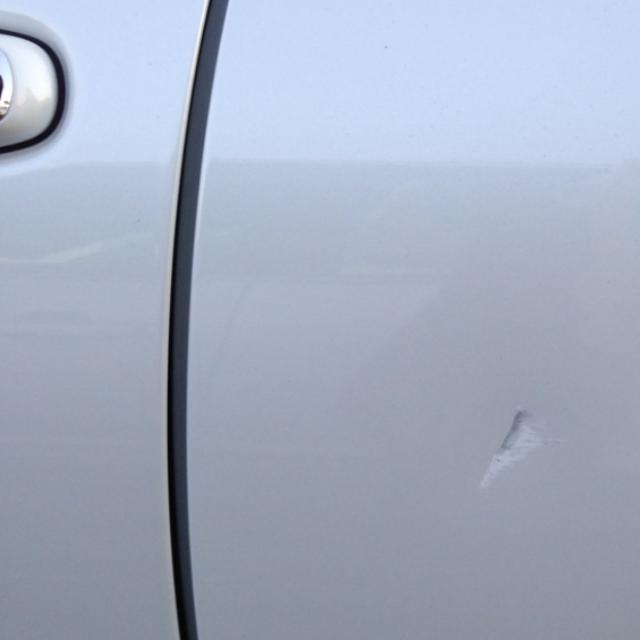dents: (460, 398, 596, 516)
